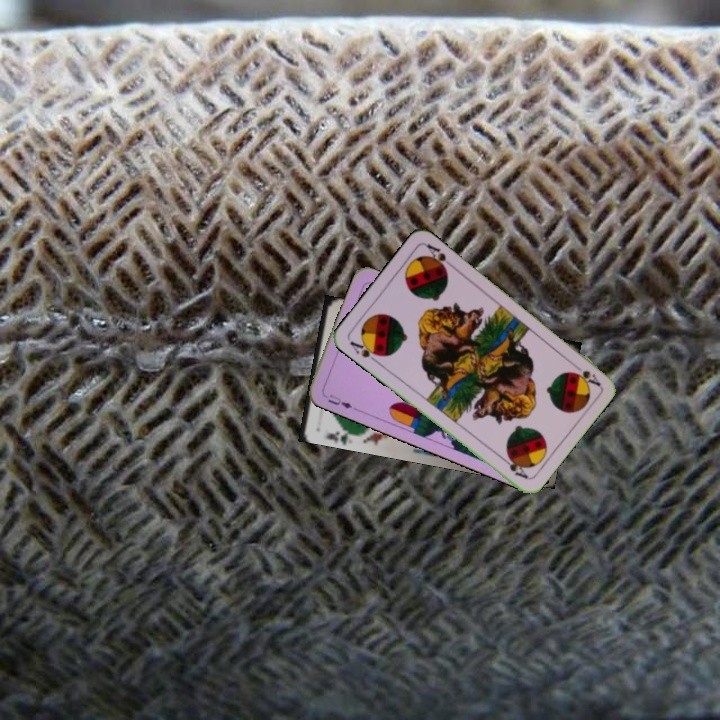EU: (324, 390, 355, 411)
GK: (322, 424, 356, 445)
SA: (346, 336, 384, 365), (571, 366, 603, 389)
